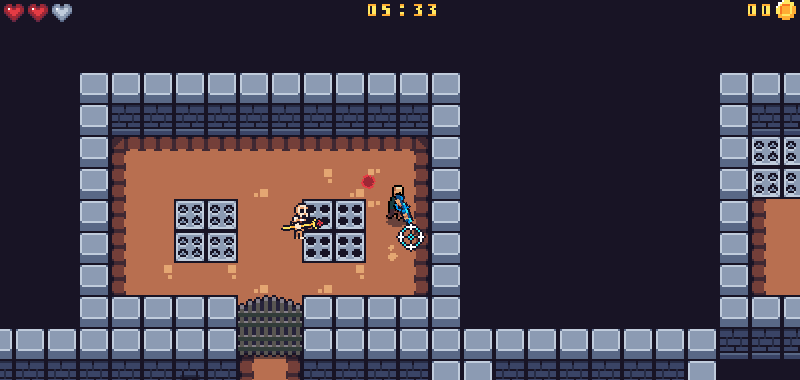enemy_skeleton: (278, 202, 323, 242)
enemy_skeleton_shoot: (359, 172, 376, 191)
trap_door: (232, 292, 309, 362)
trap_off: (173, 197, 238, 264), (300, 199, 366, 263), (748, 137, 800, 199)
